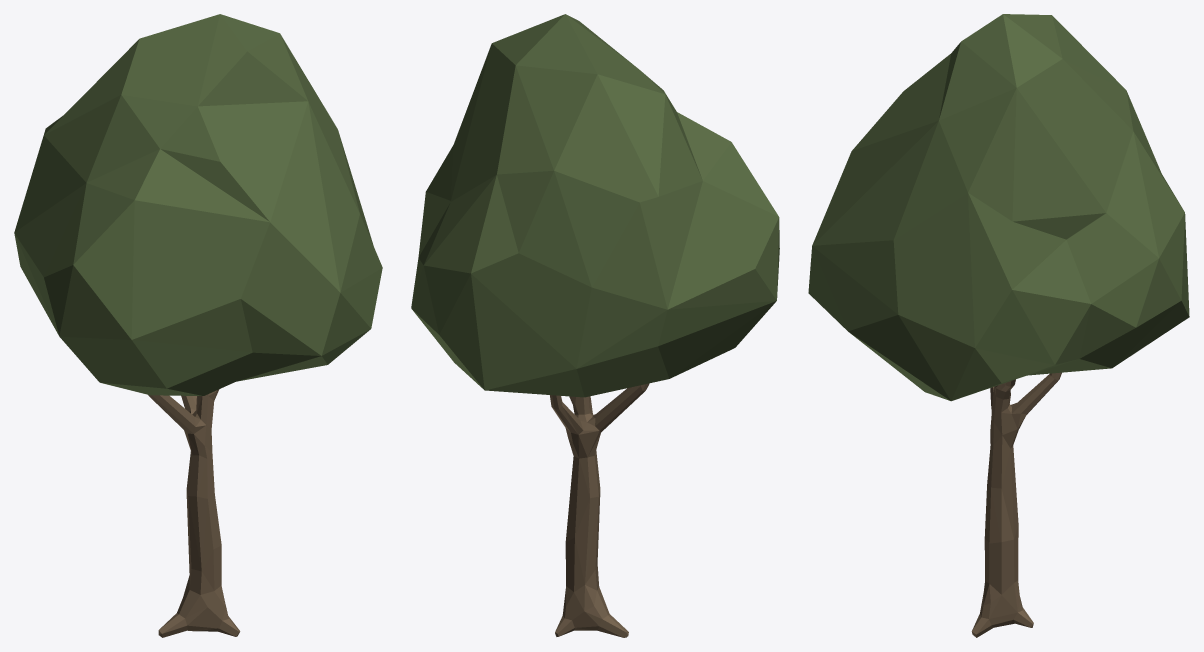
File: SM_Envr_Nature_Tree_03.fbx
The picture shows the model from 3 angles, left to right: view 1: azimuth 30°, elevation 25°; view 2: azimuth 150°, elevation 25°; view 3: azimuth 270°, elevation 25°; orthographic projection.
Parts seen in each view (by area): view 1: SM_Envr_Nature_Tree_03; view 2: SM_Envr_Nature_Tree_03; view 3: SM_Envr_Nature_Tree_03.
Boxes of the visible parts, box(x1,y1,x2,y2) form: SM_Envr_Nature_Tree_03: box(14, 14, 382, 637); SM_Envr_Nature_Tree_03: box(411, 14, 779, 637); SM_Envr_Nature_Tree_03: box(808, 14, 1189, 637).
Bounding box in the file's own units: 270 × 485 × 269.
